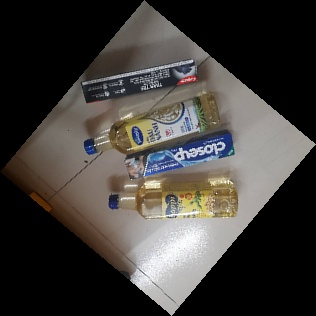CloseUp Tuyet: (124, 130, 237, 181)
Colgate Than: (80, 54, 202, 105)
Happy Soya: (108, 180, 239, 218)
Simply: (81, 91, 220, 157)
